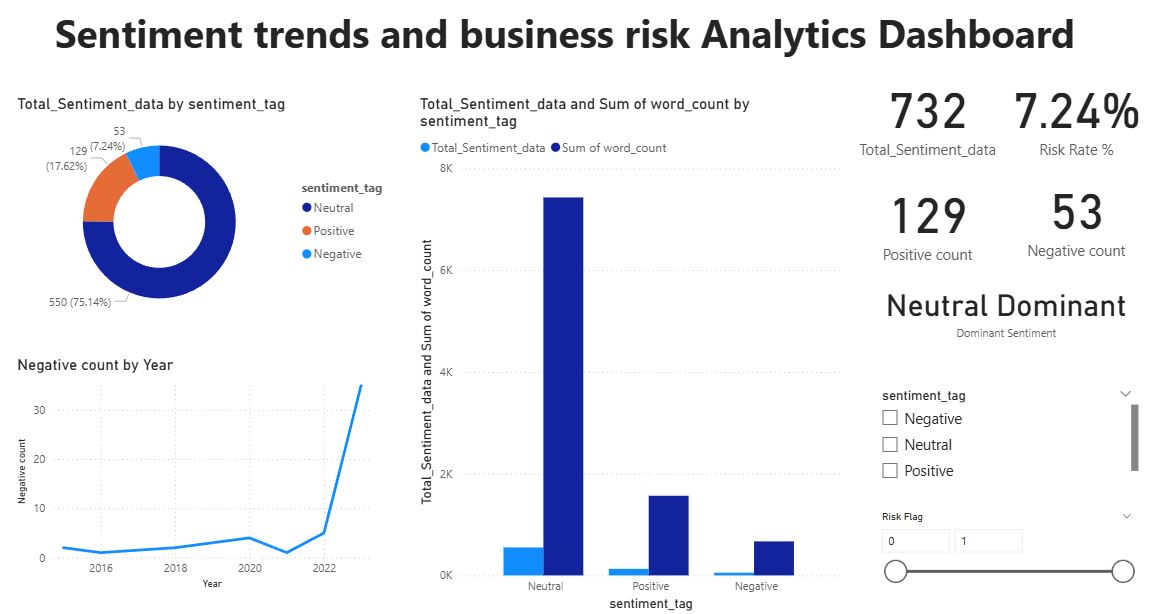

Layout of this report page (visuals, bound fields, positions):
{"tool":"powerbi","page":{"name":"Visuals","canvas":[1280,720],"ordinal":0},"visuals":[{"type":"card","fields":{"Values":["sentiment_cleaned_EDA (2).Total"]},"box":[938.6,94.7,172.9,150.9],"z":0},{"type":"card","fields":{"Values":["sentiment_cleaned_EDA (2).Positive count"]},"box":[949.6,236,150.9,100.2],"z":1000},{"type":"card","fields":{"Values":["sentiment_cleaned_EDA (2).Negative count"]},"box":[1111.5,226.4,153.7,109.8],"z":2000},{"type":"card","fields":{"Values":["sentiment_cleaned_EDA (2).Risk Rate %"]},"box":[1101.9,94.7,172.9,150.9],"z":3000},{"type":"card","fields":{"Values":["sentiment_cleaned_EDA (2).Dominant Sentiment"]},"box":[961.9,336.2,299.1,97.4],"z":4000},{"type":"donutChart","fields":{"Category":["sentiment_cleaned_EDA (2).sentiment_tag"],"Y":["sentiment_cleaned_EDA (2).Total_Sentiment_data"]},"box":[20.6,148.2,428.1,262.1],"z":5000},{"type":"clusteredColumnChart","fields":{"Category":["sentiment_cleaned_EDA (2).sentiment_tag"],"Y":["sentiment_cleaned_EDA (2).Total_Sentiment_data","Sum(sentiment_cleaned_EDA (2).word_count)"]},"box":[462.4,148.2,472,572.2],"z":6000},{"type":"lineChart","fields":{"Category":["sentiment_cleaned_EDA (2).Timestamp.Variation.Date Hierarchy.Year"],"Y":["sentiment_cleaned_EDA (2).Negative count"]},"box":[20.6,435,400.7,262.1],"z":7000},{"type":"slicer","fields":{"Values":["sentiment_cleaned_EDA (2).sentiment_tag"]},"box":[961.9,465.2,299.1,113.9],"z":7001},{"type":"slicer","fields":{"Values":["sentiment_cleaned_EDA (2).Risk Flag"]},"box":[961.9,601,299.1,96.1],"z":7002},{"type":"textbox","box":[61.7,46.7,1218.5,70],"z":7004}]}

Visuals, with their boxes in screenshot pixels (x1, y1, x2, y2):
card - sentiment_cleaned_EDA (2).Total: box(927, 80, 1067, 202)
card - sentiment_cleaned_EDA (2).Positive count: box(935, 194, 1058, 275)
card - sentiment_cleaned_EDA (2).Negative count: box(1067, 186, 1159, 275)
card - sentiment_cleaned_EDA (2).Risk Rate %: box(1059, 80, 1159, 202)
card - sentiment_cleaned_EDA (2).Dominant Sentiment: box(945, 275, 1159, 354)
donutChart - sentiment_cleaned_EDA (2).sentiment_tag x sentiment_cleaned_EDA (2).Total_Sentiment_data: box(183, 123, 530, 335)
clusteredColumnChart - sentiment_cleaned_EDA (2).sentiment_tag x sentiment_cleaned_EDA (2).Total_Sentiment_data: box(541, 123, 923, 587)
lineChart - sentiment_cleaned_EDA (2).Timestamp.Variation.Date Hierarchy.Year x sentiment_cleaned_EDA (2).Negative count: box(183, 355, 507, 568)
slicer - sentiment_cleaned_EDA (2).sentiment_tag: box(945, 380, 1159, 472)
slicer - sentiment_cleaned_EDA (2).Risk Flag: box(945, 490, 1159, 568)
textbox: box(216, 41, 1159, 98)
